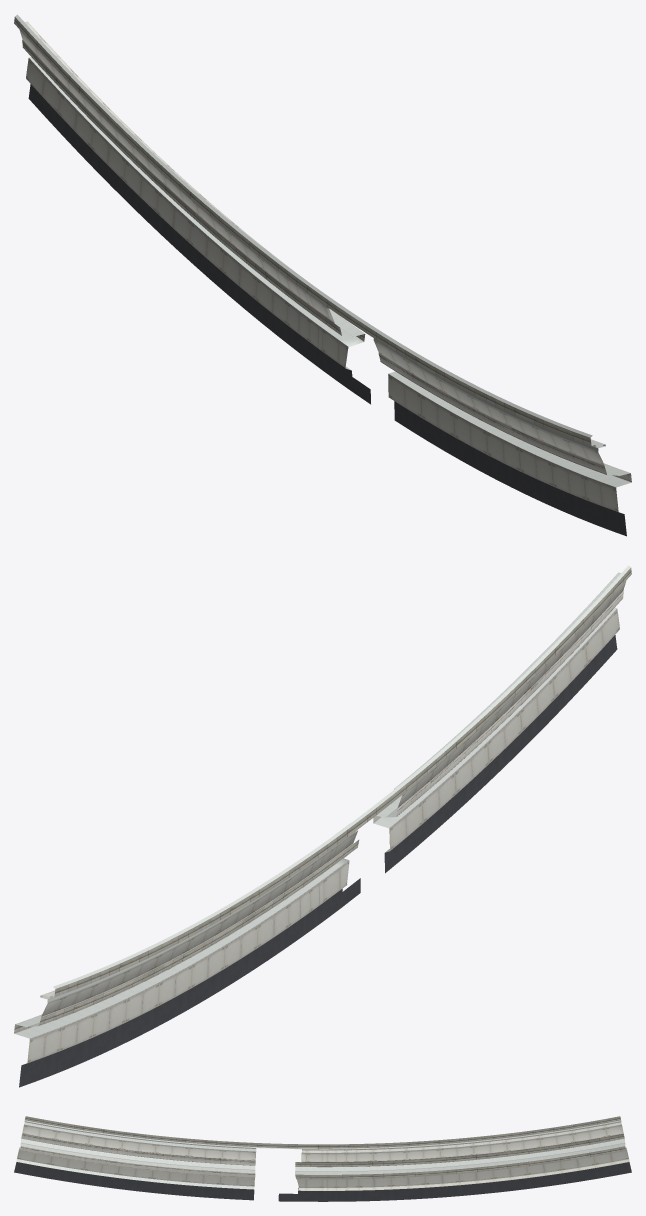
File: STA20_67.FBX
3 renders of one model, top to bottom at view 1: azimuth 30°, elevation 25°; view 2: azimuth 150°, elevation 25°; view 3: azimuth 270°, elevation 25°, orthographic. The views are drawn at different scales.
Parts seen in each view (by area): view 1: STA20_67; view 2: STA20_67; view 3: STA20_67.
Part boxes in pixels (left/top/right/bottom): STA20_67: left=14, top=14, right=631, bottom=536; STA20_67: left=14, top=565, right=631, bottom=1087; STA20_67: left=14, top=1116, right=631, bottom=1201.
Size of the model in its own units: 48.38 by 201 by 1409.
